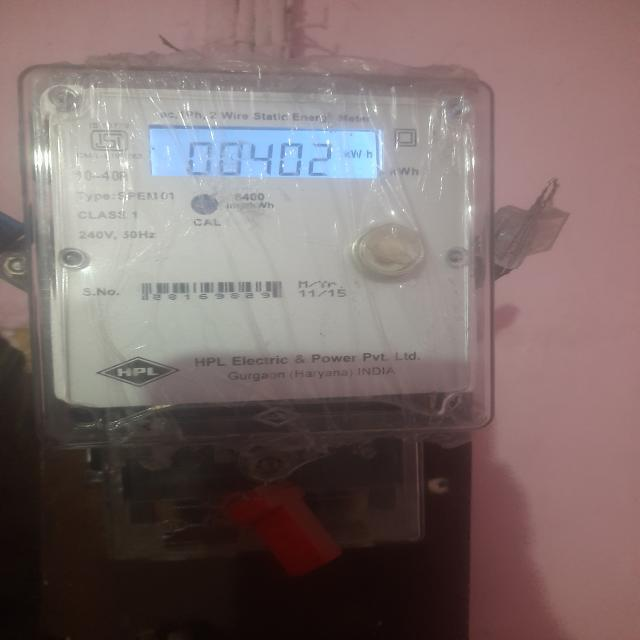display: (154, 130, 389, 187)
